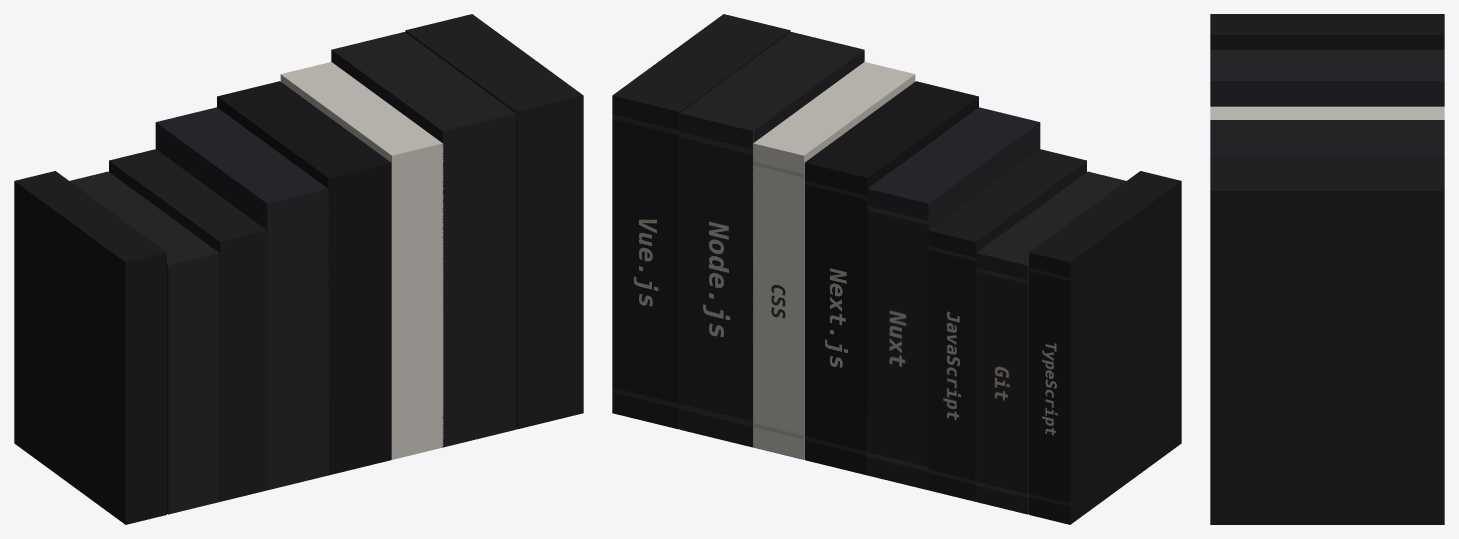
The model's file is books.glb.
3 renders of one model, left to right at view 1: azimuth 30°, elevation 25°; view 2: azimuth 150°, elevation 25°; view 3: azimuth 270°, elevation 25°, orthographic. The views are drawn at different scales.
Parts seen in each view (by area): view 1: book_7, book_1, book_0, book_4, book_3, book_2, book_5, book_6; view 2: book_7, book_1, book_0, book_4, book_3, book_2, book_5, book_6; view 3: book_0, book_1, book_7, book_3, book_4, book_2, book_6.
Part boxes in pixels (x1,y1,x2,y2): book_7: (14,171,166,524); book_1: (331,32,515,447); book_0: (405,14,583,429); book_4: (155,107,328,490); book_3: (217,81,391,475); book_2: (280,62,443,459); book_5: (109,149,267,501); book_6: (70,171,219,514); book_7: (1029,171,1181,524); book_1: (680,32,864,447); book_0: (612,14,790,429); book_4: (867,107,1040,490); book_3: (804,81,978,475); book_2: (752,62,915,459); book_5: (928,149,1086,501); book_6: (976,171,1125,514); book_0: (1210,156,1444,524); book_1: (1210,120,1444,156); book_7: (1210,14,1444,49); book_3: (1210,81,1444,106); book_4: (1210,61,1444,80); book_2: (1210,106,1444,119); book_6: (1210,50,1444,60).
Size of the model in its own units: 0.356 by 0.236 by 0.15.
9 materials, 1 textured.
